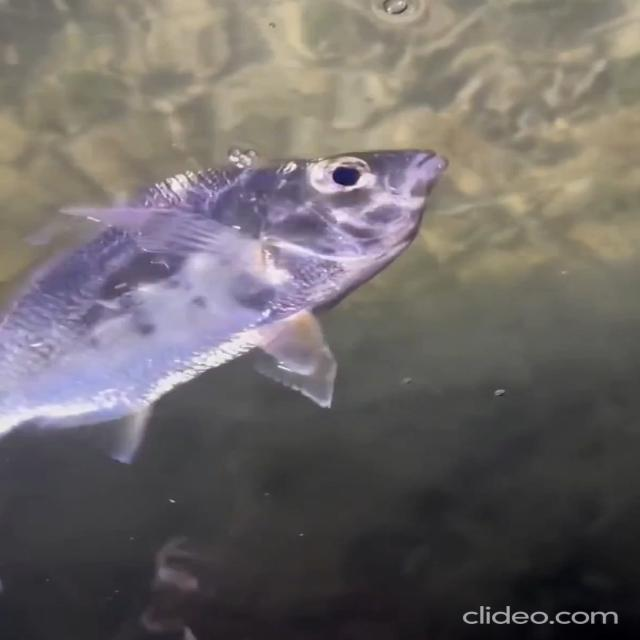fish: (0, 141, 457, 471)
